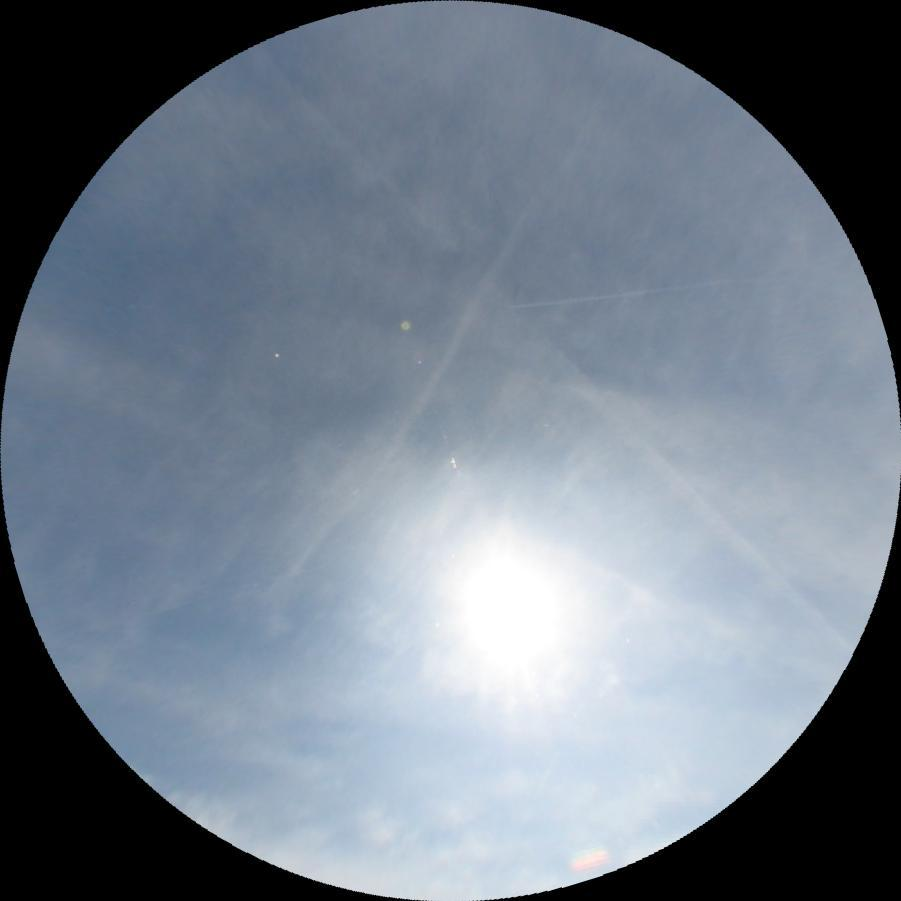contrail old: (239, 44, 863, 657)
contrail veryold: (1, 316, 731, 616), (271, 181, 566, 604)
contrail young: (501, 278, 733, 310)
sun: (440, 534, 582, 701)
